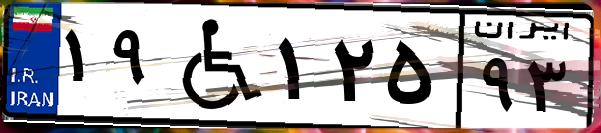1: (270, 28, 330, 110), (57, 26, 110, 100)
2: (330, 28, 385, 110)
3: (525, 38, 570, 115)
5: (385, 28, 445, 110)
9: (475, 38, 525, 113), (110, 28, 158, 98)
ژ (معلولین و جانبازان): (158, 12, 270, 120)
